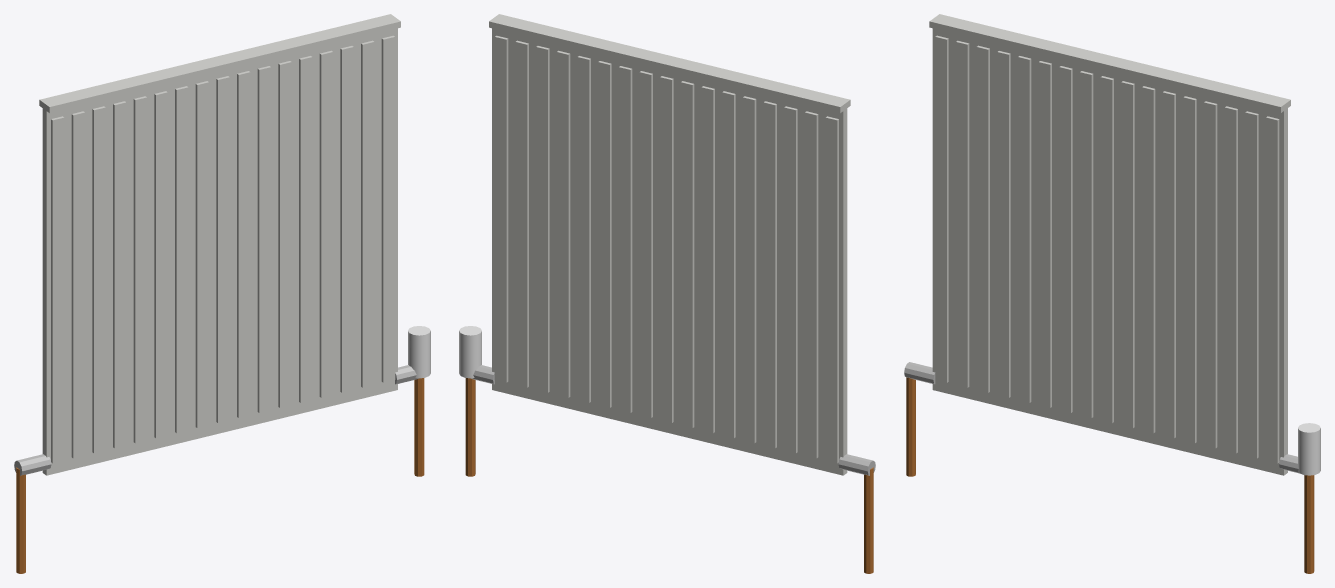
File: services.radiator.single_600.glb
3 views of the same model, side by side, from view 1: azimuth 30°, elevation 25°; view 2: azimuth 150°, elevation 25°; view 3: azimuth 330°, elevation 25° (orthographic).
Parts seen in each view (by area): view 1: main__paint_white, main__copper, main__plastic_white, main__steel_stainless; view 2: main__paint_white, main__copper, main__plastic_white, main__steel_stainless; view 3: main__paint_white, main__copper, main__plastic_white, main__steel_stainless.
Part boxes in pixels (x1=…): main__paint_white: x1=39, y1=14, x2=400, y2=475; main__copper: x1=16, y1=378, x2=424, y2=573; main__plastic_white: x1=408, y1=326, x2=430, y2=378; main__steel_stainless: x1=14, y1=365, x2=418, y2=475; main__paint_white: x1=489, y1=14, x2=850, y2=475; main__copper: x1=465, y1=378, x2=873, y2=573; main__plastic_white: x1=459, y1=326, x2=481, y2=378; main__steel_stainless: x1=471, y1=365, x2=875, y2=475; main__paint_white: x1=929, y1=14, x2=1290, y2=475; main__copper: x1=906, y1=377, x2=1314, y2=573; main__plastic_white: x1=1298, y1=423, x2=1320, y2=475; main__steel_stainless: x1=904, y1=362, x2=1299, y2=473.
Size of the model in its own units: 0.7045 by 0.755 by 0.034.
